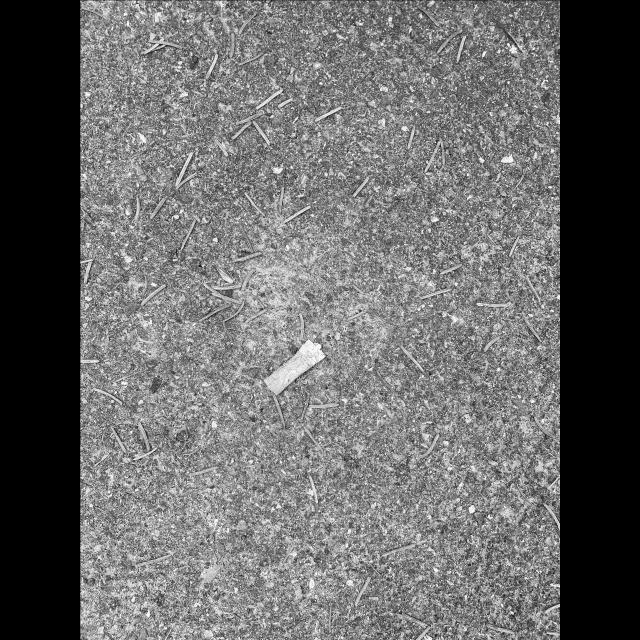cigarette: (263, 339, 326, 395)
